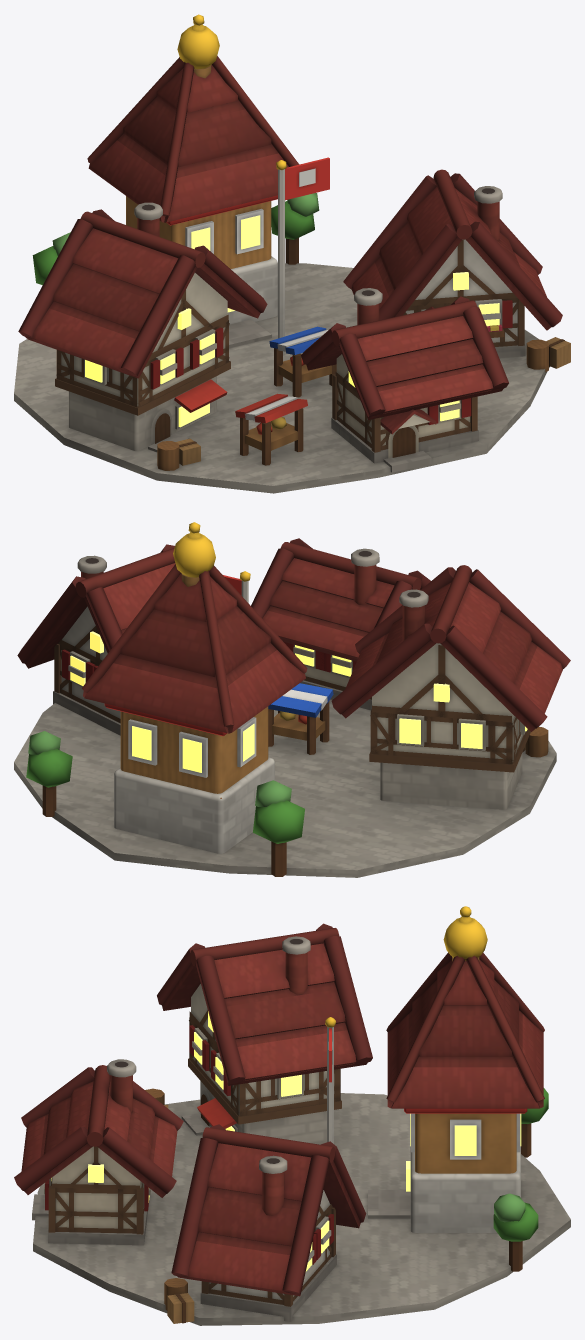
Rendered from city_dl3_red.glb.
The picture shows the model from 3 angles, top to bottom: view 1: azimuth 30°, elevation 25°; view 2: azimuth 150°, elevation 25°; view 3: azimuth 270°, elevation 25°; orthographic projection.
Visible parts, largest first — view 1: city_dl3_red; view 2: city_dl3_red; view 3: city_dl3_red.
Part boxes in pixels (bbox=[...]): city_dl3_red: bbox=[14, 14, 570, 493]; city_dl3_red: bbox=[14, 522, 570, 877]; city_dl3_red: bbox=[14, 906, 570, 1325].
Bounding box in the file's own units: 1.58 × 0.8794 × 1.44.
Materials: 2 (1 with a texture image).
